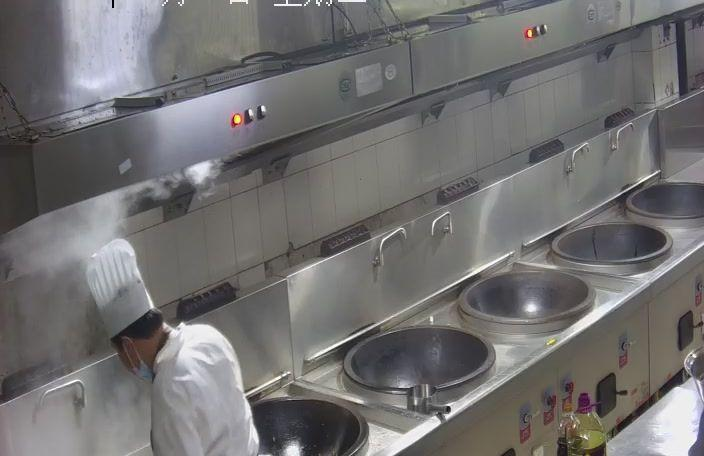mask: (113, 331, 158, 386)
